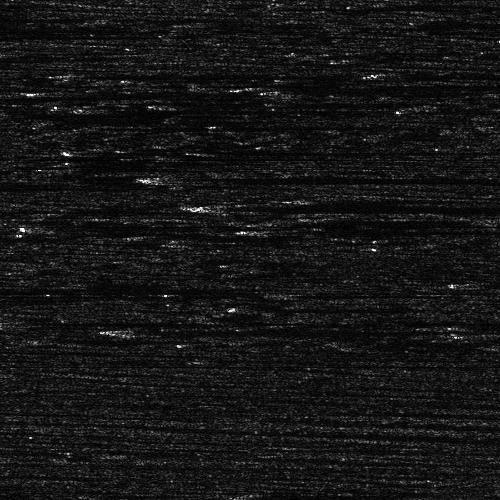object: (0, 68, 150, 81), (75, 172, 232, 183), (188, 199, 271, 210), (416, 277, 500, 286), (242, 227, 325, 236), (237, 217, 330, 224), (448, 328, 500, 339), (214, 303, 277, 312), (90, 326, 163, 333), (257, 290, 310, 295), (187, 147, 228, 152), (236, 492, 267, 495)
shadow: (154, 172, 500, 183), (229, 199, 500, 210), (67, 68, 284, 81), (127, 326, 495, 333), (284, 227, 500, 236), (0, 20, 117, 33), (284, 217, 500, 224), (246, 303, 396, 312), (0, 292, 267, 297), (0, 285, 243, 290), (0, 181, 103, 192), (284, 290, 440, 295), (208, 147, 358, 152), (252, 492, 404, 495), (462, 277, 500, 286)
